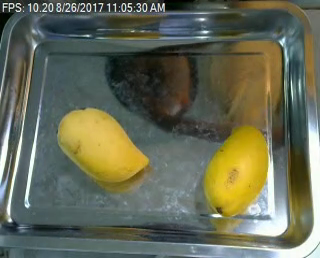Mango: (55, 100, 150, 188), (193, 123, 273, 216)
